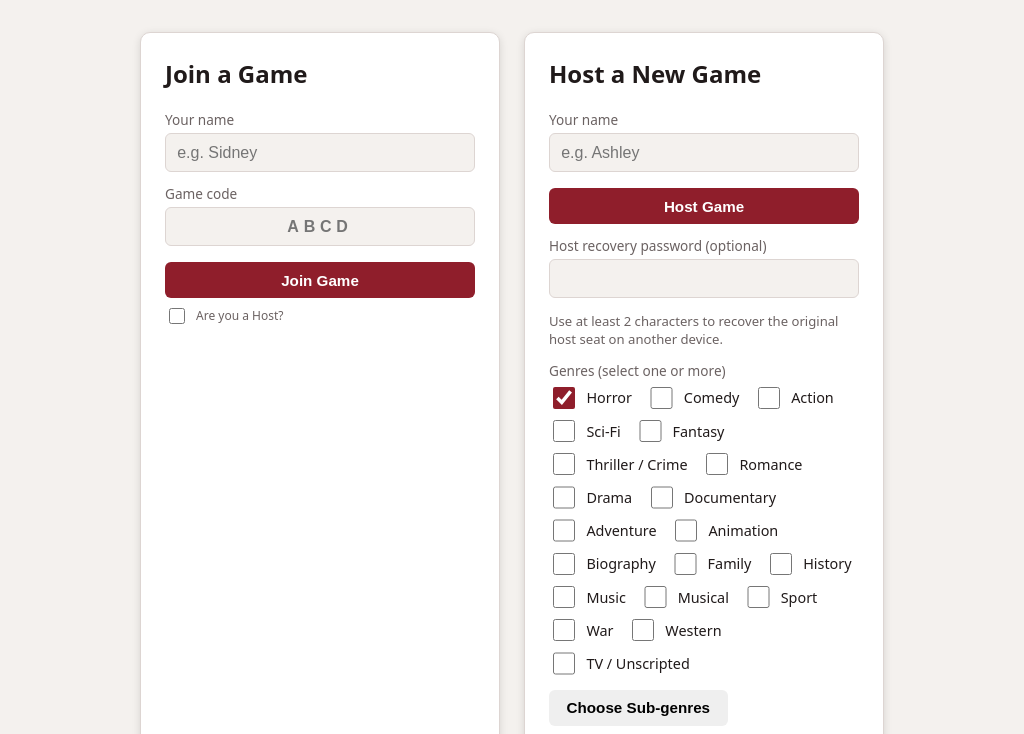
Test: Landing › shows only the game-code field when a join name is already provided
The image size is (1024, 734).
Type "Sidney" into the field with placeholder "e.g. Sidney" below "Join a Game" at (320, 152), box [165, 133, 475, 172]
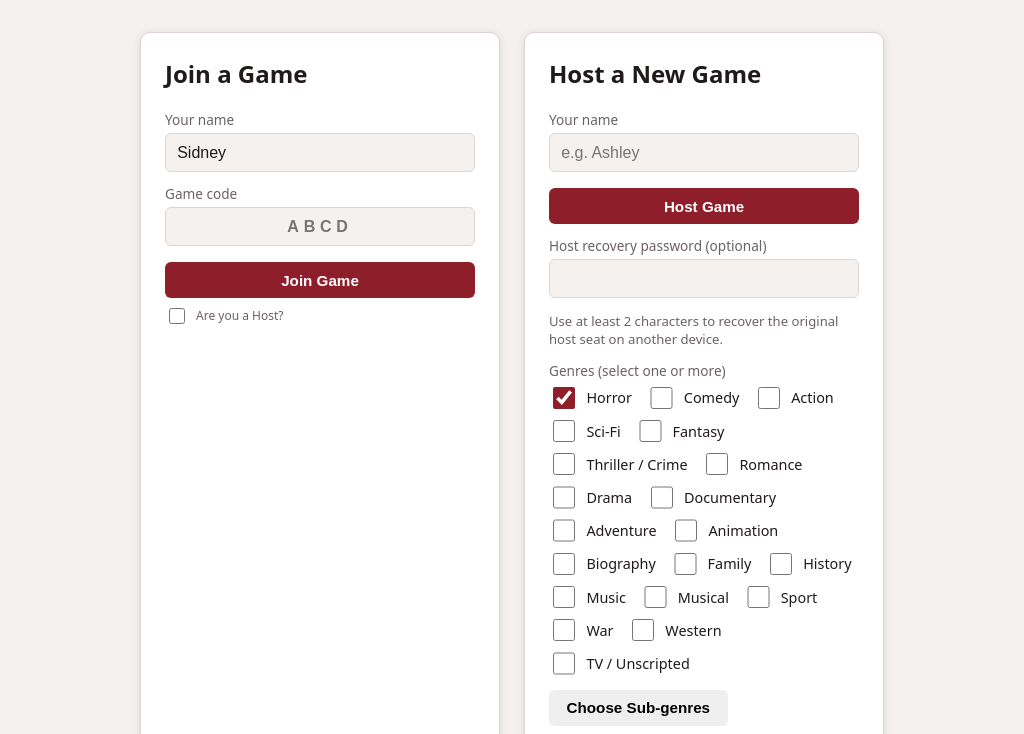
Click the button "Join Game" at (320, 280), box [165, 262, 475, 298]
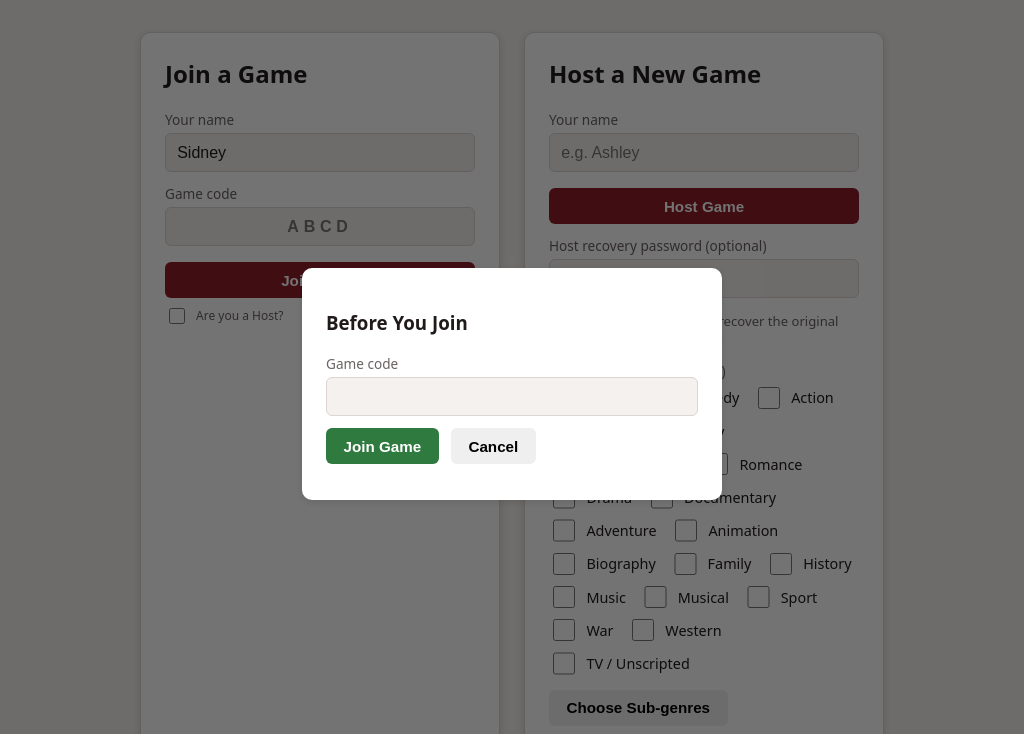
Now the field with id "modal-join-code" is shown, box [326, 377, 698, 416]
